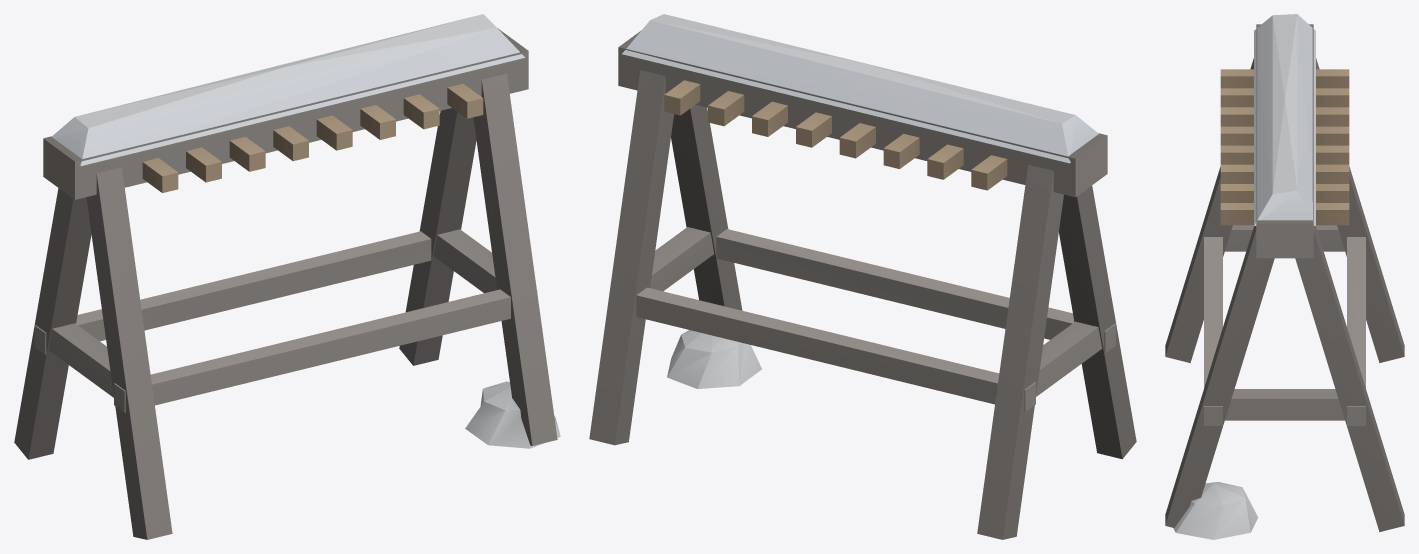
The model's file is skirack.lod1.glb.
3 views of the same model, side by side, from view 1: azimuth 30°, elevation 25°; view 2: azimuth 150°, elevation 25°; view 3: azimuth 270°, elevation 25° (orthographic). The views are drawn at different scales.
Size of the model in its own units: 1.99 by 1.59 by 1.01.
